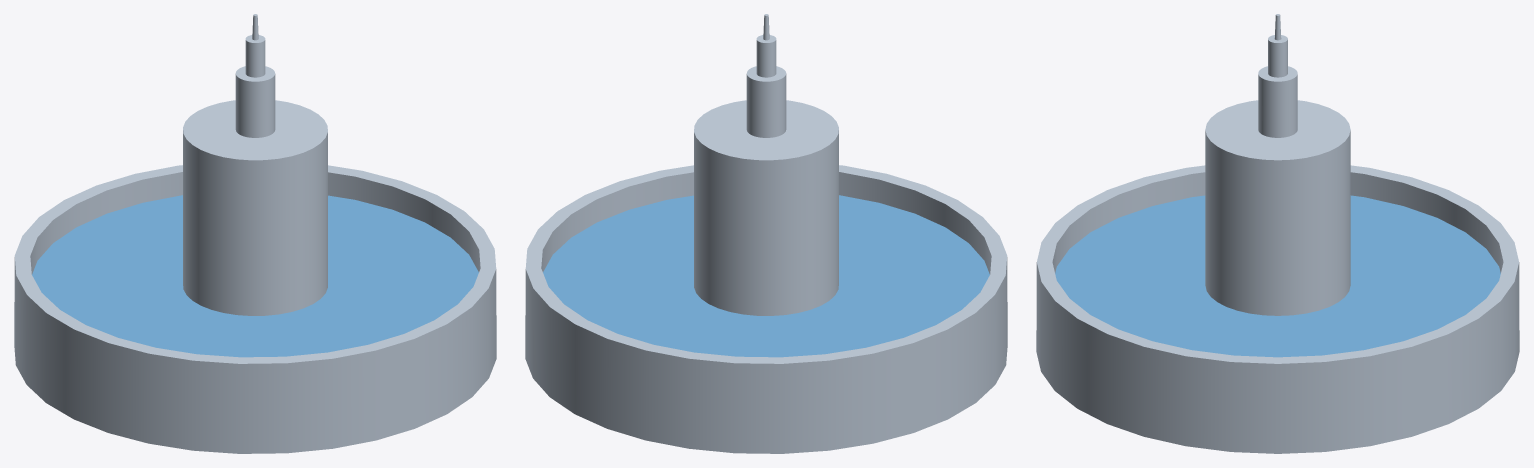
Rendered from fountain.glb.
3 renders of one model, left to right at view 1: azimuth 30°, elevation 25°; view 2: azimuth 150°, elevation 25°; view 3: azimuth 270°, elevation 25°, orthographic.
Visible parts, largest first — view 1: Fountain; view 2: Fountain; view 3: Fountain.
Part boxes in pixels (left/top/right/bottom): Fountain: left=14, top=14, right=496, bottom=453; Fountain: left=525, top=14, right=1007, bottom=453; Fountain: left=1036, top=14, right=1519, bottom=453.
Size of the model in its own units: 0.835 by 0.6424 by 0.835.
